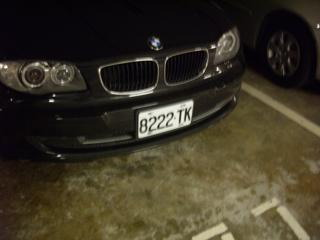plate: (137, 100, 193, 138)
